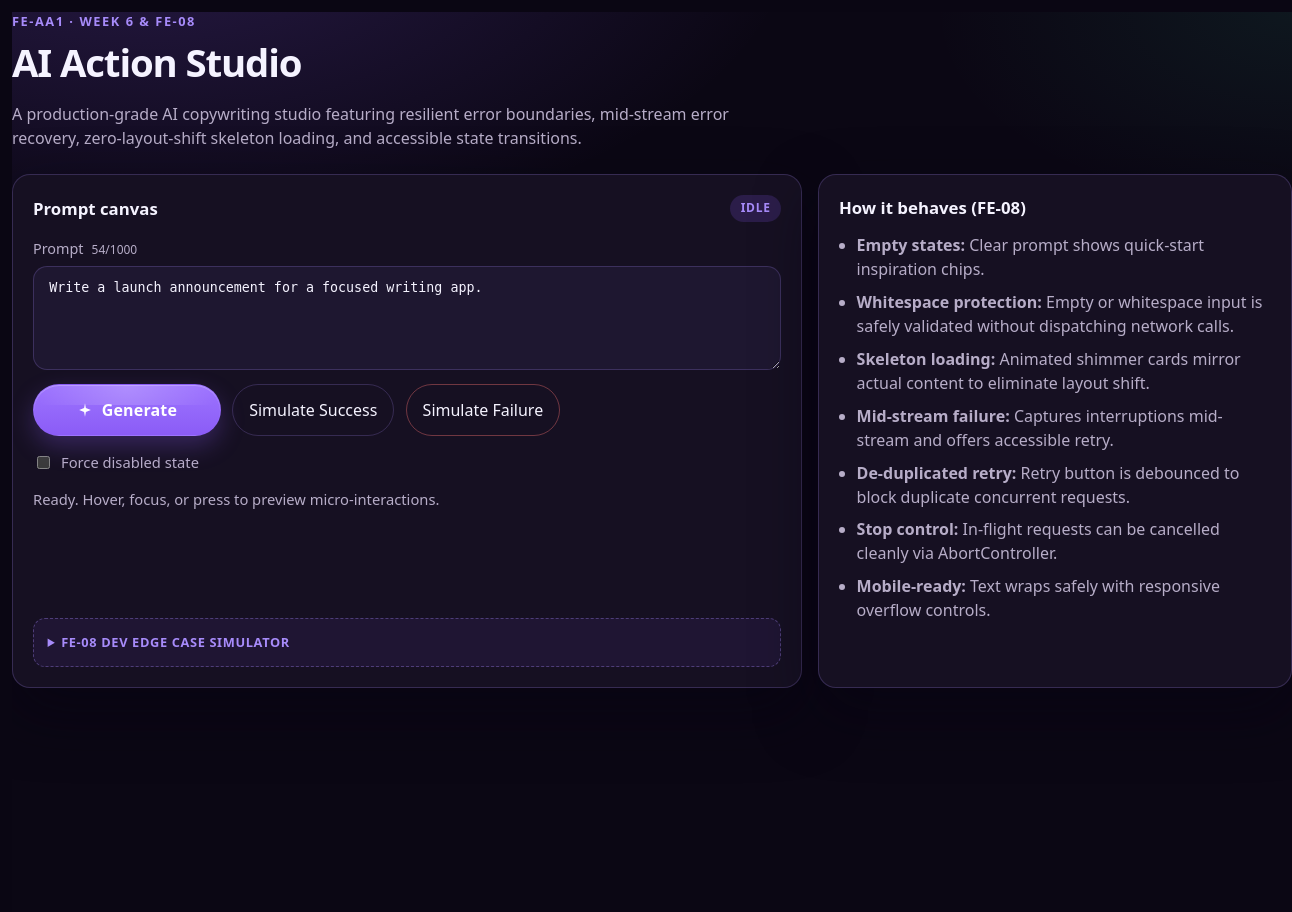
ActionStudio › shows a validation error when Generate is clicked with an empty prompt
Clear the text box at (407, 318), box [33,266,781,370]
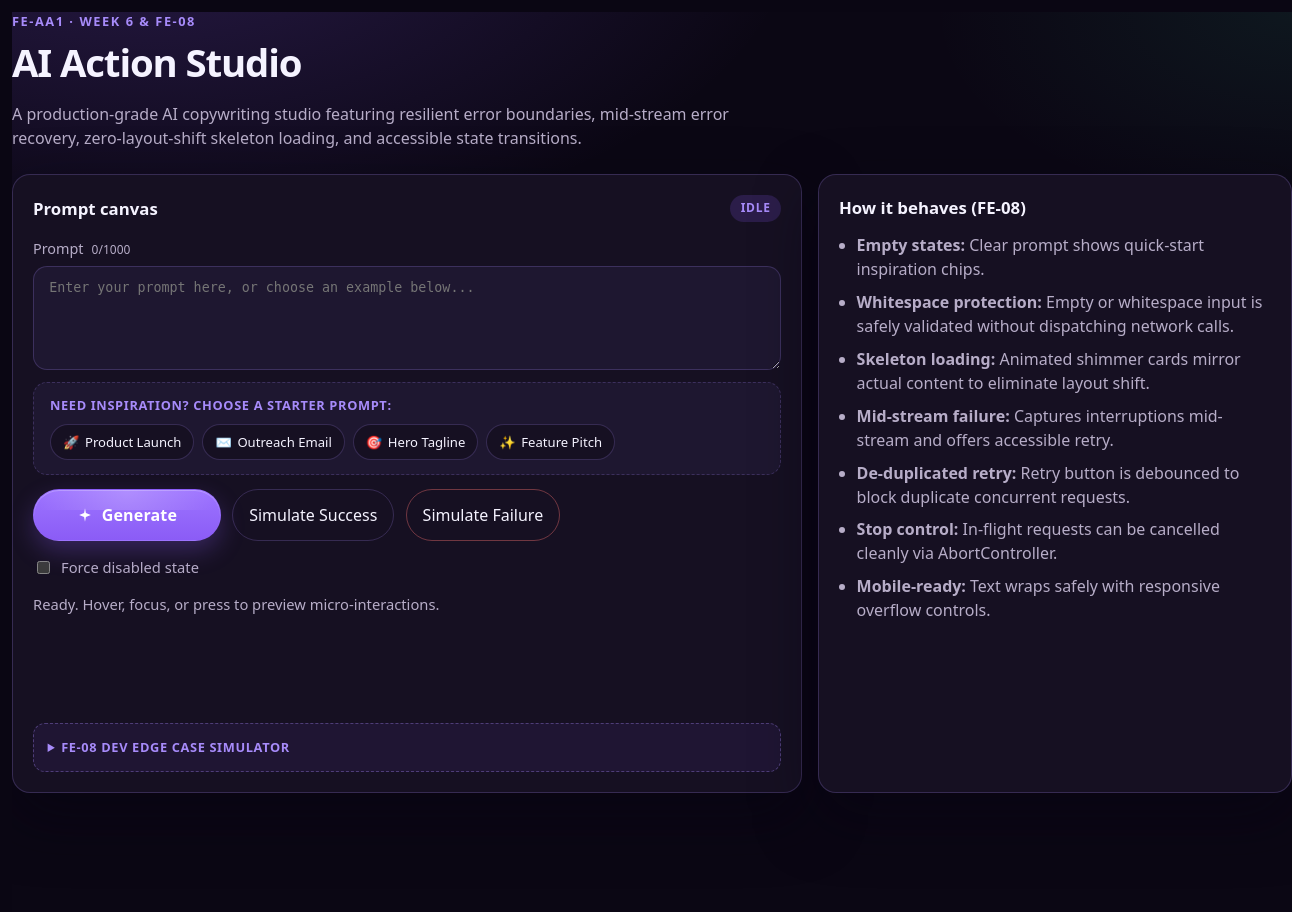
Click the button "Generate" at (127, 515), box [33,489,221,541]
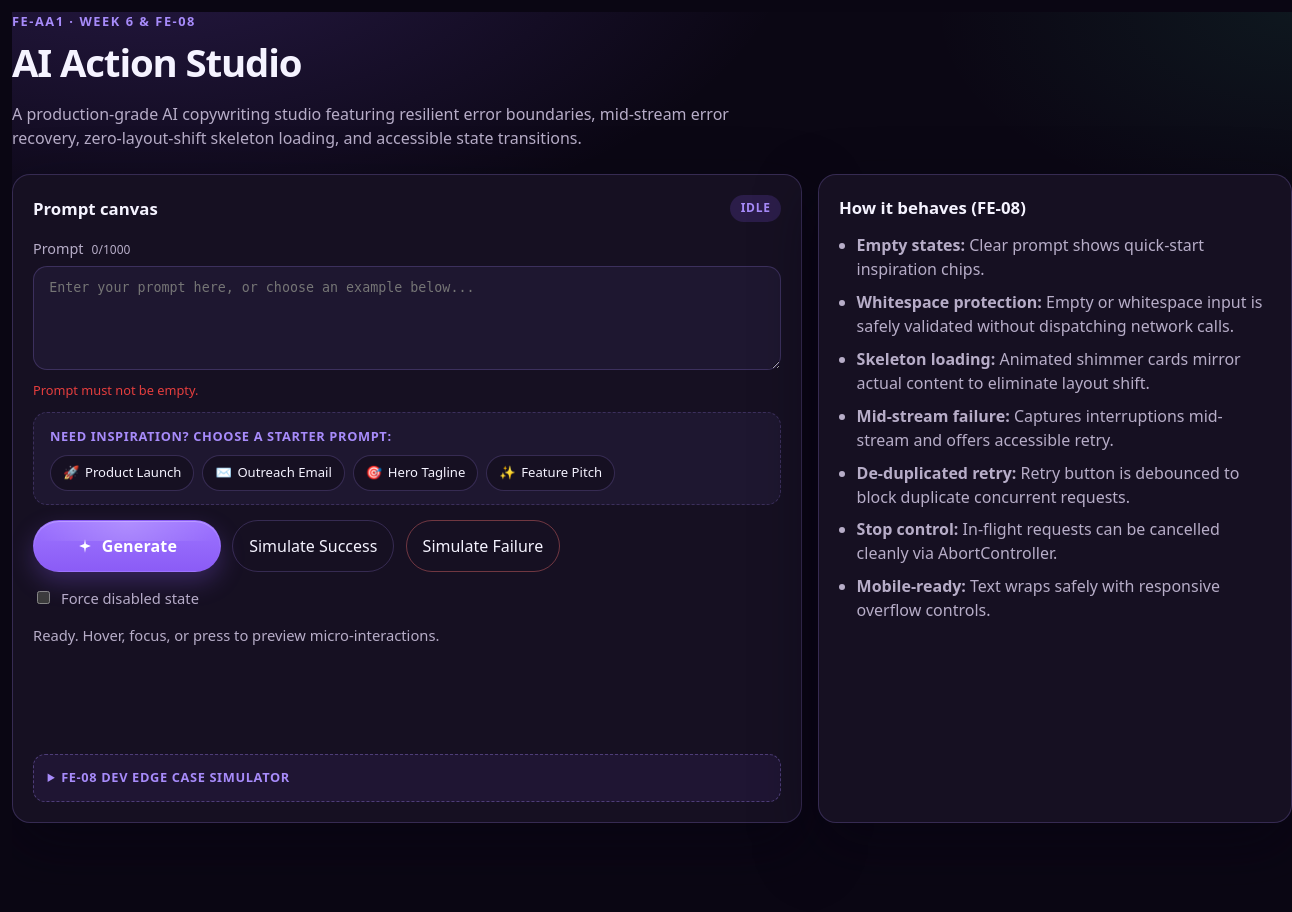
Check: the message "Prompt must not be empty." is shown, box [33,381,198,399]
